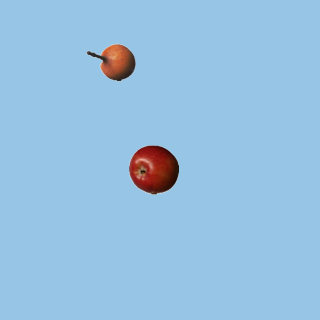Apple Braeburn: (128, 144, 178, 194)
Granadilla: (85, 37, 135, 87)
